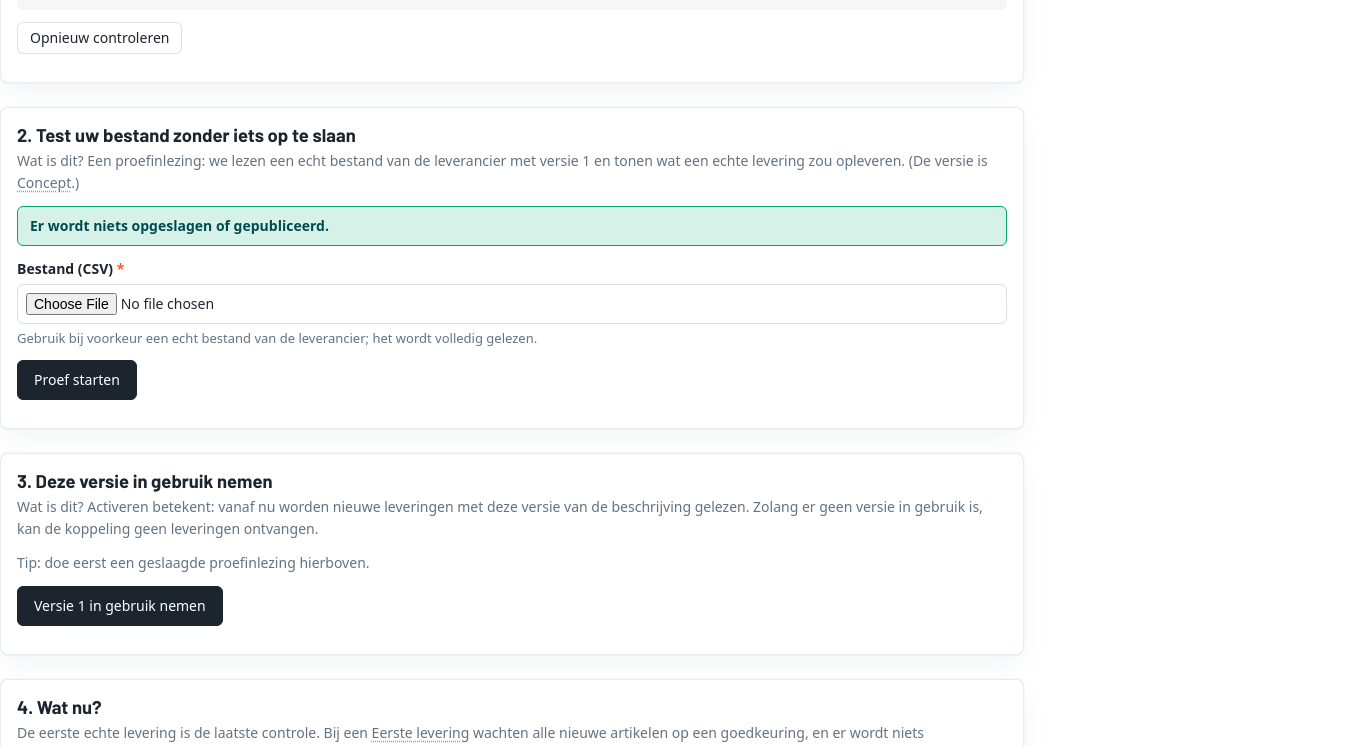
Test: NT-10 — scherm "Controleren" › NT-10.8: zonder bestand geen verzoek, maar een Nederlandse melding
(page scrolled)
Expected: the element with test id "trial-section" is shown, [0,107,1024,429]
Step 1. Click the button with test id "trial-start" → click(77, 380), box [17,360,137,400]
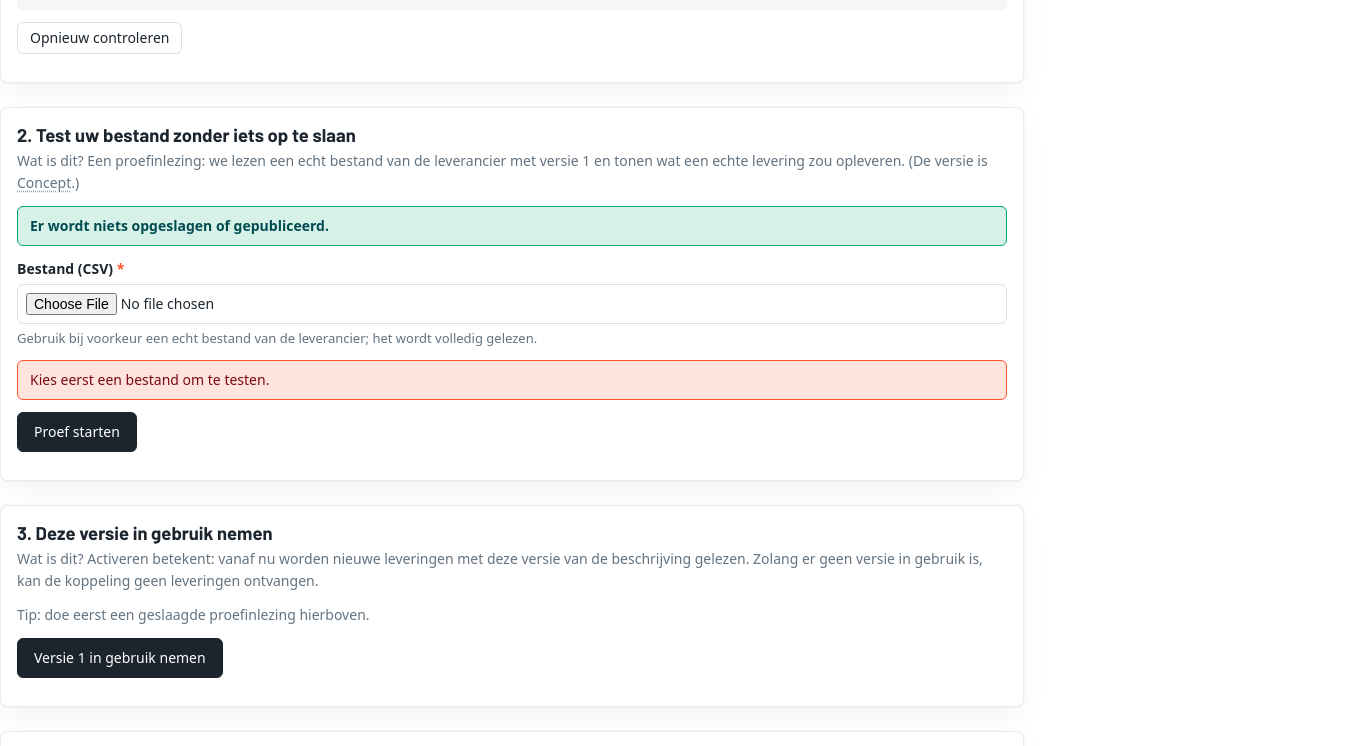
Result: the message with test id "trial-validation" reads "Kies eerst een bestand om te testen." at [30,370,269,389]
